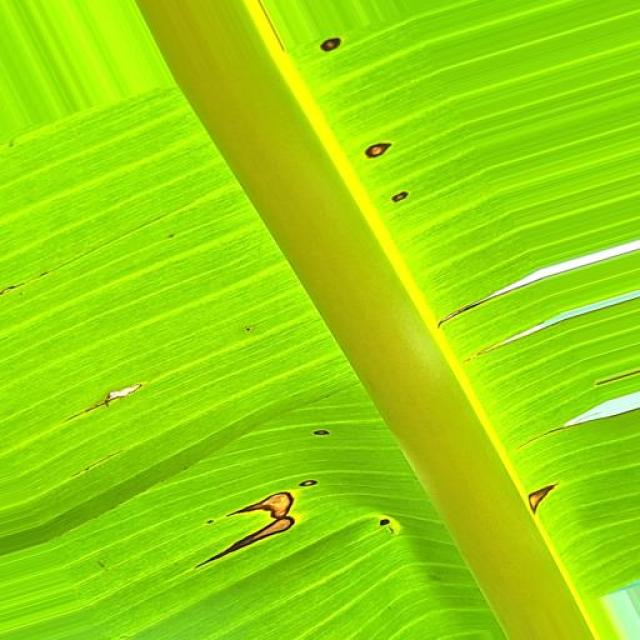Early_rust: (190, 450, 434, 578), (298, 30, 440, 222), (74, 358, 152, 432), (510, 463, 575, 533)
